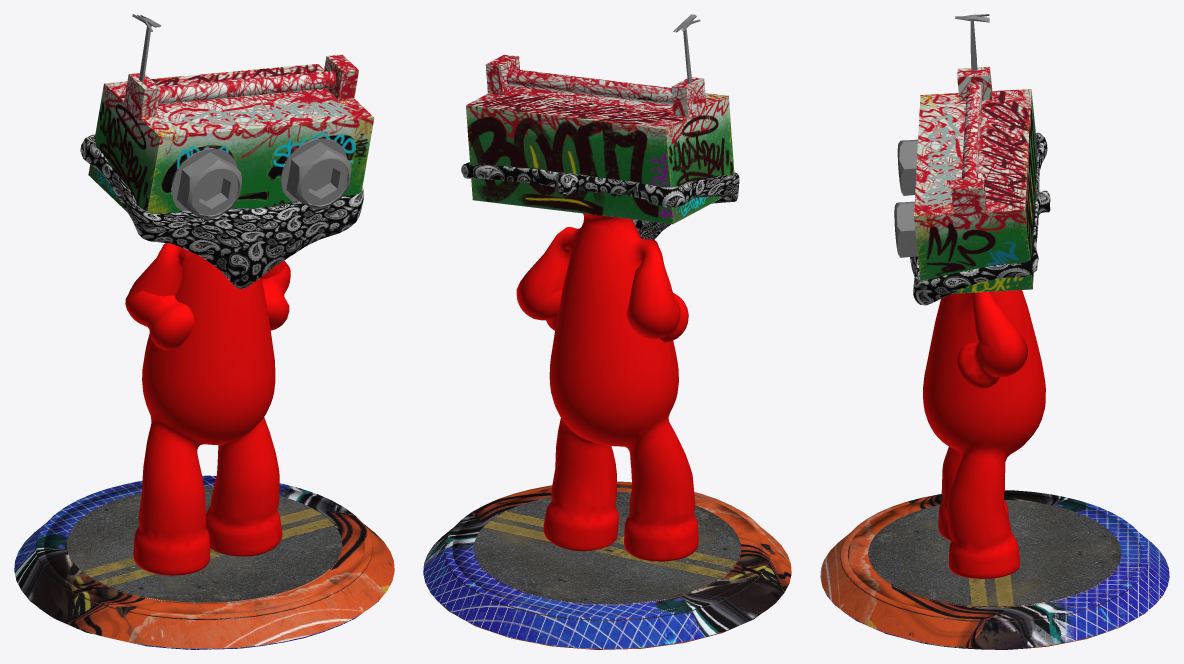
3 renders of one model, left to right at view 1: azimuth 30°, elevation 25°; view 2: azimuth 150°, elevation 25°; view 3: azimuth 270°, elevation 25°, orthographic. The views are drawn at different scales.
Visible parts, largest first — view 1: BBody; view 2: BBody; view 3: BBody.
Boxes of the visible parts, bbox=[...] form: BBody: bbox=[14, 14, 394, 649]; BBody: bbox=[423, 14, 791, 649]; BBody: bbox=[820, 14, 1169, 649].
Bounding box in the file's own units: 1.45 × 2.42 × 1.45.
6 materials, 4 textured.
